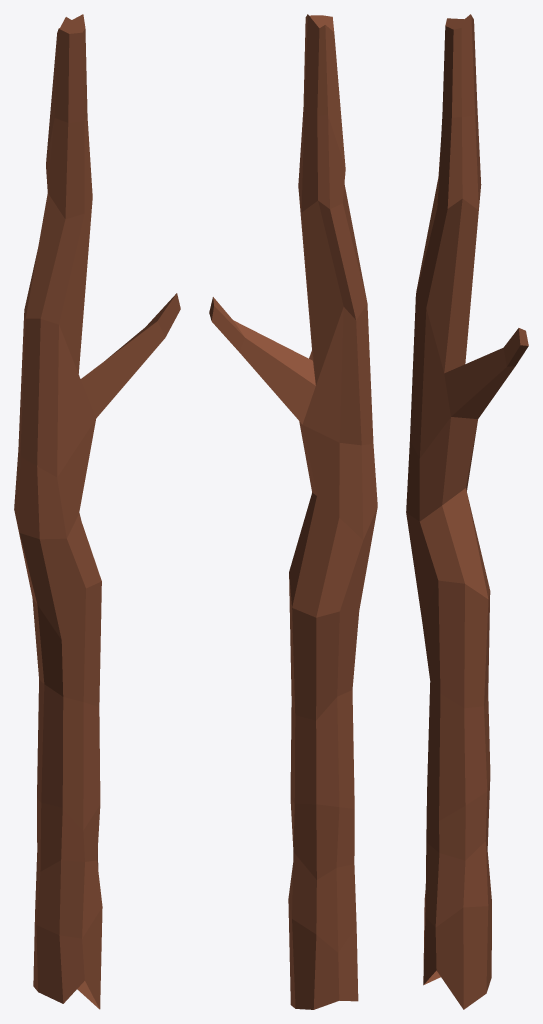
The model's file is rama.fbx.
3 renders of one model, left to right at view 1: azimuth 30°, elevation 25°; view 2: azimuth 210°, elevation 25°; view 3: azimuth 330°, elevation 25°, orthographic.
Visible parts, largest first — view 1: Cylinder; view 2: Cylinder; view 3: Cylinder.
Part boxes in pixels (<box>): Cylinder: <box>14,14,180,1009</box>; Cylinder: <box>209,14,377,1009</box>; Cylinder: <box>406,14,528,1009</box>.
Size of the model in its own units: 79.35 by 533 by 43.99.
